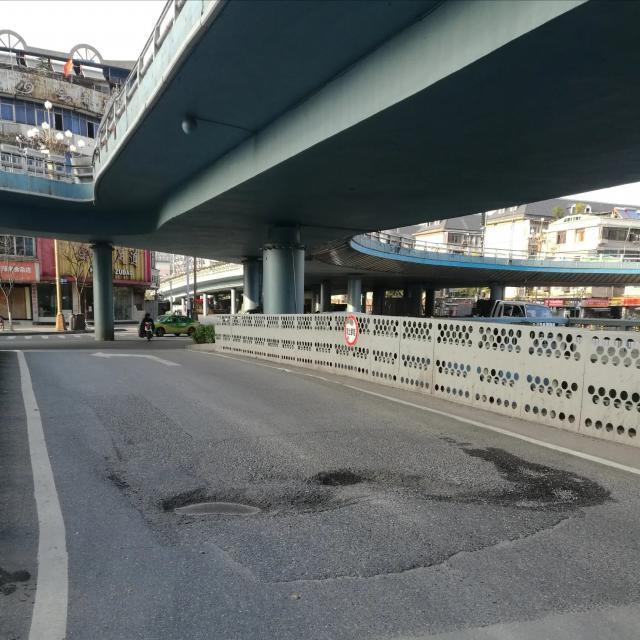pothole: (456, 445, 615, 516), (163, 495, 271, 523), (306, 475, 373, 488)
